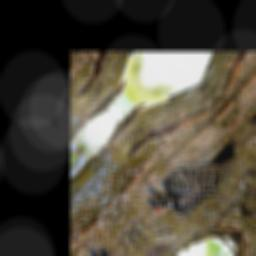Woodpecker: (139, 115, 246, 232)
